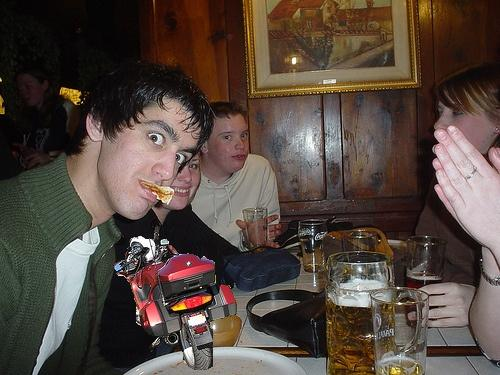tampered: (114, 226, 237, 370)
